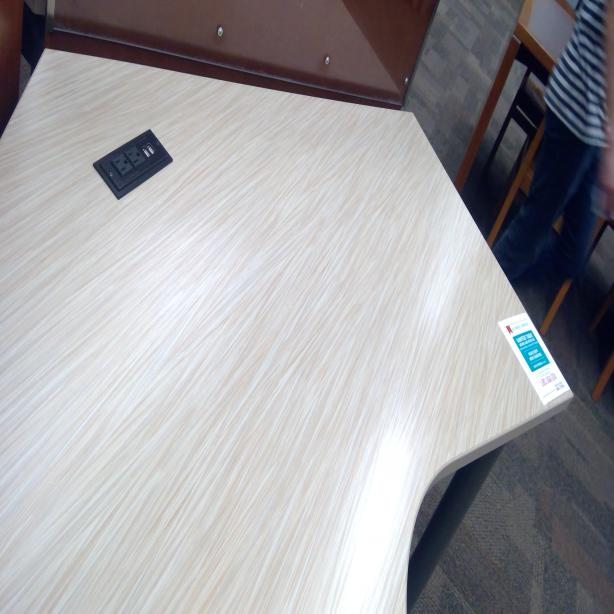typeb: (127, 146, 144, 167), (113, 155, 129, 176)
